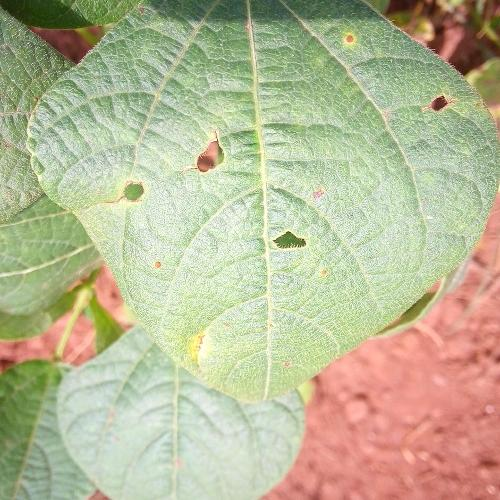mozaik: (104, 140, 246, 198), (250, 213, 308, 274), (410, 74, 471, 131)
